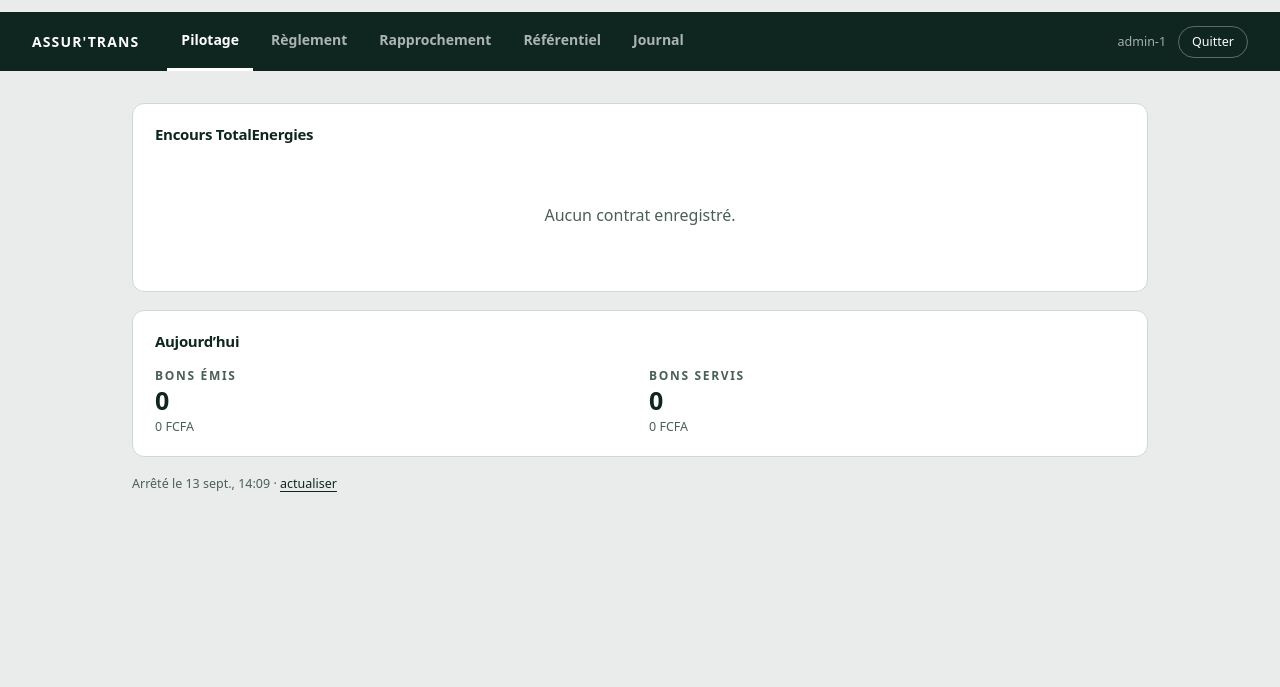
Test case: un relevé vide › traduit le refus du serveur en étape manquante
Click the button "Rapprochement" at (435,42), box x1=365 y1=12 x2=505 y2=71
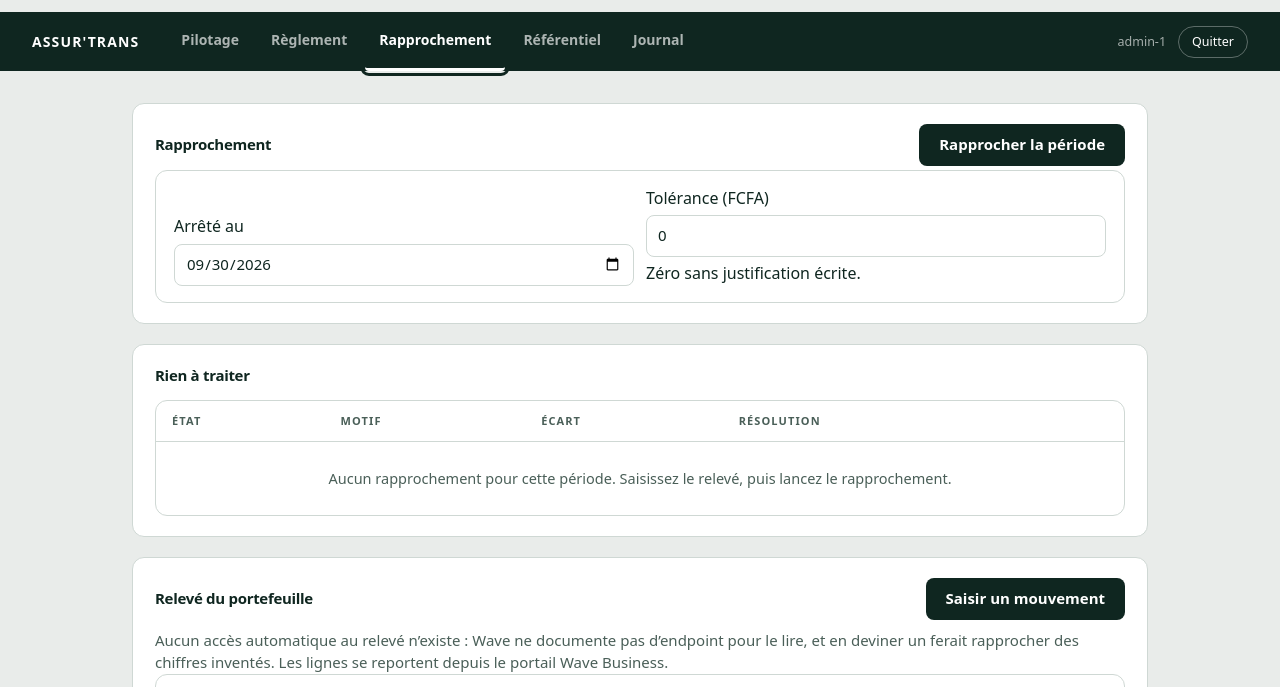
Click the button "Rapprocher la période" at (1022,145), box x1=919 y1=124 x2=1125 y2=166
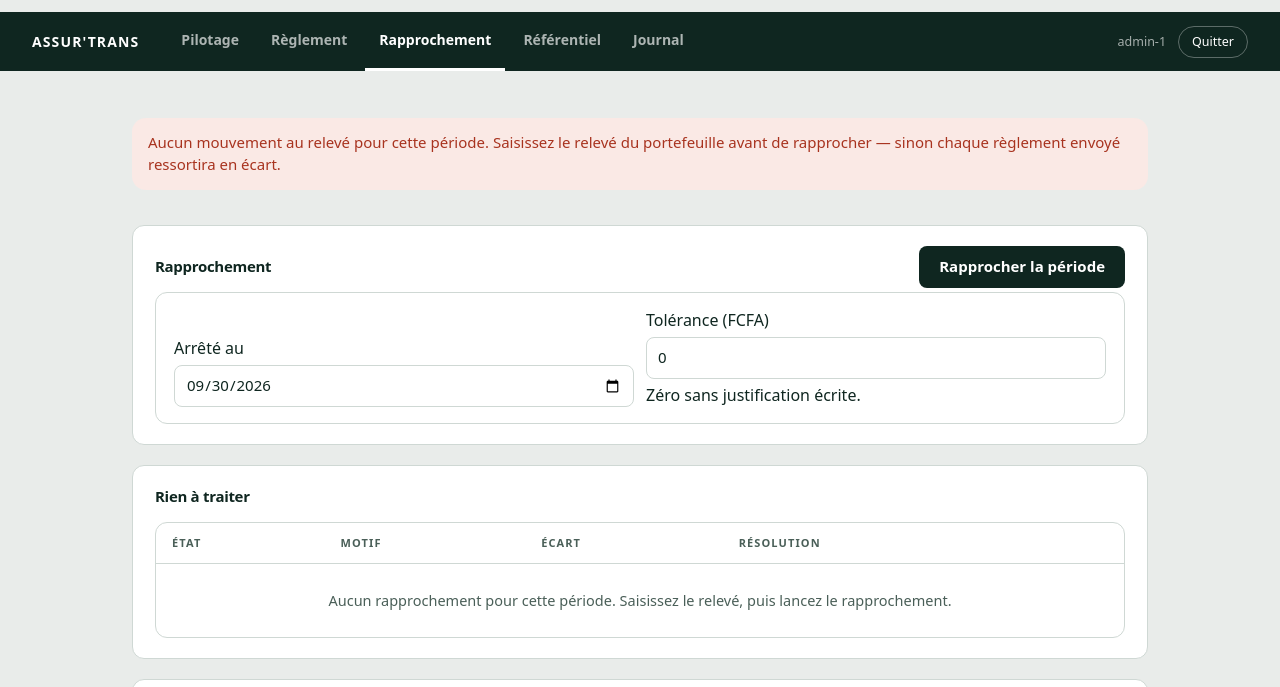
Expected: the text "saisissez le relevé du portefeuille" is shown, x1=148 y1=132 x2=1120 y2=174
